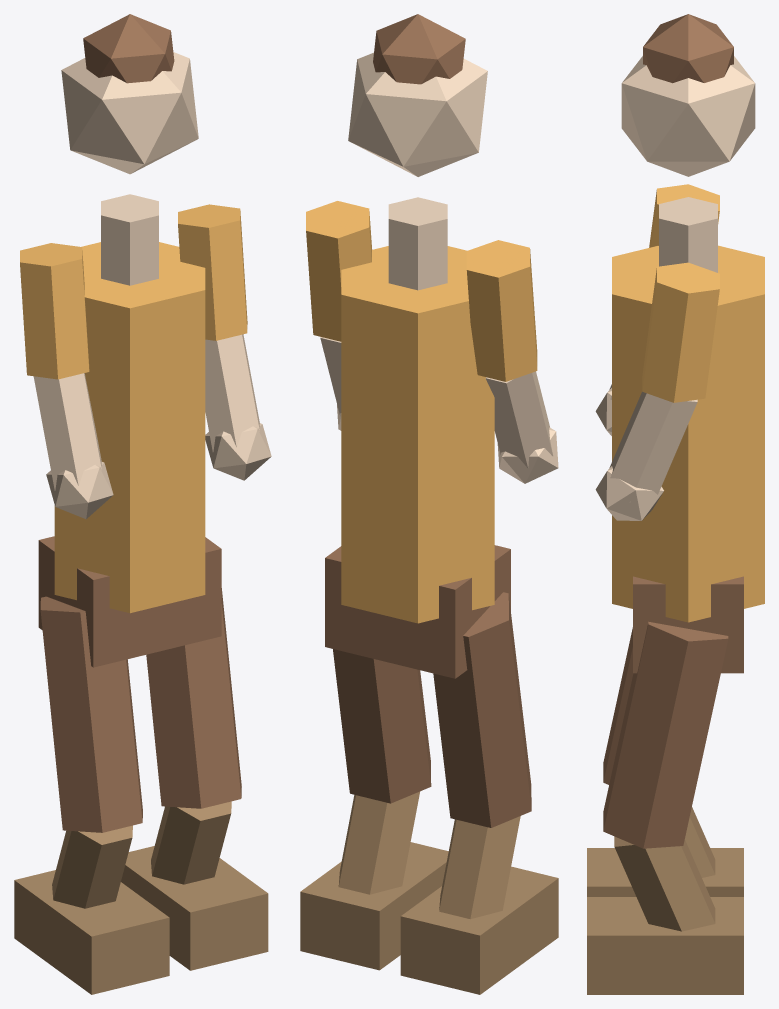
The model's file is pose_hit_light_00.glb.
The picture shows the model from 3 angles, left to right: view 1: azimuth 30°, elevation 25°; view 2: azimuth 150°, elevation 25°; view 3: azimuth 270°, elevation 25°; orthographic projection.
Visible parts, largest first — view 1: pose; view 2: pose; view 3: pose.
Boxes of the visible parts, <box> form: pose: <box>14,14,271,994</box>; pose: <box>300,14,558,994</box>; pose: <box>587,14,764,994</box>.
Bounding box in the file's own units: 0.3955 × 1.58 × 0.2719.
